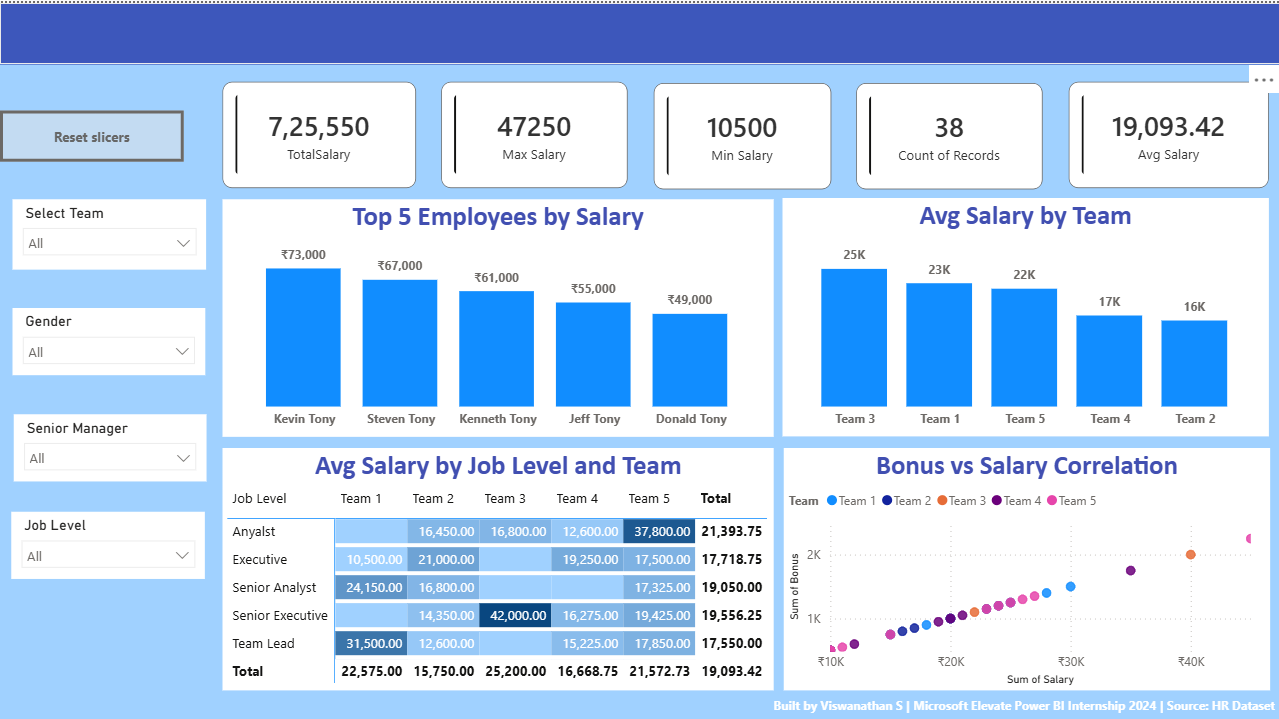

The page's visual inventory and layout, read from the dashboard file:
{"tool":"powerbi","page":{"name":"Page 2","canvas":[1280,720],"ordinal":1},"visuals":[{"type":"cardVisual","fields":{"Data":["Data.TotalSalary"]},"box":[222.5,78.8,193.8,106.2],"z":0},{"type":"slicer","fields":{"Values":["Data.Team"]},"box":[11.2,196.2,193.8,70],"z":1000},{"type":"slicer","fields":{"Values":["Data.Gender"]},"box":[11.2,306.2,192.5,67.5],"z":2000},{"type":"slicer","fields":{"Values":["Data.Senior Manager"]},"box":[11.2,411.2,192.5,67.5],"z":3000},{"type":"slicer","fields":{"Values":["Data.Job Level"]},"box":[11.2,511.2,193.8,67.5],"z":4000},{"type":"cardVisual","fields":{"Data":["Data.Min Salary"]},"box":[653.3,80,177.5,106.2],"z":5000},{"type":"cardVisual","fields":{"Data":["Data.Max Salary"]},"box":[441.7,78.8,186.2,106.2],"z":6000},{"type":"cardVisual","fields":{"Data":["Data.Avg Salary"]},"box":[1068.8,78.8,200,106.2],"z":7000},{"type":"cardVisual","fields":{"Data":["Data.Count of Records"]},"box":[856.2,80,186.2,106.2],"z":8000},{"type":"actionButton","box":[0,107.5,183.8,51.2],"z":9000},{"type":"clusteredColumnChart","title":"Top 5 Employees by Salary","fields":{"Category":["Data.Full Name"],"Y":["Sum(Data.Salary)"]},"box":[222.5,196.2,551.2,237.5],"z":10000},{"type":"clusteredColumnChart","fields":{"Category":["Data.Team"],"Y":["Data.Avg Salary"]},"box":[782.5,195,486.2,238.8],"z":11000},{"type":"pivotTable","title":"Avg Salary by Job Level and Team","fields":{"Rows":["Data.Job Level"],"Columns":["Data.Team"],"Values":["Data.Avg Salary"]},"box":[222.5,445,551.2,242.5],"z":11001},{"type":"textbox","box":[760,687.5,520,32.5],"z":11002},{"type":"scatterChart","title":" Bonus vs Salary Correlation","fields":{"X":["Sum(Data.Salary)"],"Y":["Sum(Data.Bonus)"],"Category":["Data.Full Name"],"Series":["Data.Team"]},"box":[783.8,445,486.2,242.5],"z":11003},{"type":"textbox","box":[0,0,1280.2,61.6],"z":11004}]}

Visuals, with their boxes in screenshot pixels (x1, y1, x2, y2), scaled from the page's 1280x720 canvas onto the 1279x719 screenshot:
cardVisual - Data.TotalSalary: [222,79,416,185]
slicer - Data.Team: [11,196,205,266]
slicer - Data.Gender: [11,306,204,373]
slicer - Data.Senior Manager: [11,411,204,478]
slicer - Data.Job Level: [11,510,205,578]
cardVisual - Data.Min Salary: [653,80,830,186]
cardVisual - Data.Max Salary: [441,79,627,185]
cardVisual - Data.Avg Salary: [1068,79,1268,185]
cardVisual - Data.Count of Records: [856,80,1042,186]
actionButton: [0,107,184,158]
"Top 5 Employees by Salary" clusteredColumnChart: [222,196,773,433]
clusteredColumnChart - Data.Team x Data.Avg Salary: [782,195,1268,433]
"Avg Salary by Job Level and Team" pivotTable: [222,444,773,687]
textbox: [759,687,1278,718]
" Bonus vs Salary Correlation" scatterChart: [783,444,1269,687]
textbox: [0,0,1278,62]
